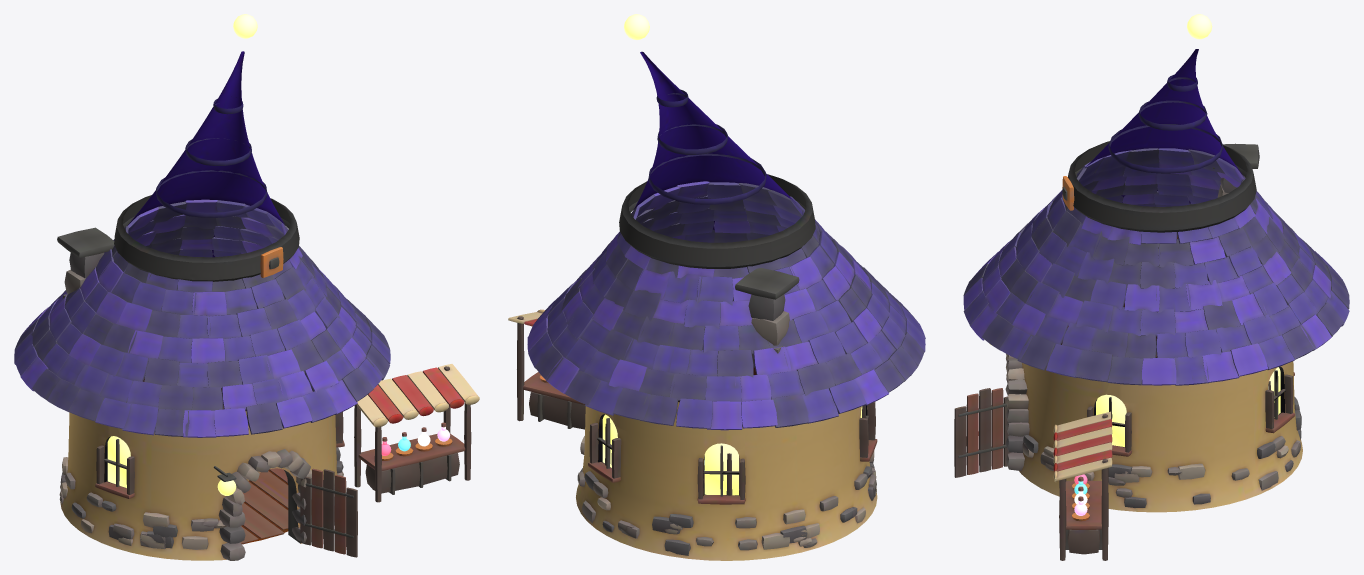
Rendered from witch_shop_v2.glb.
3 views of the same model, side by side, from view 1: azimuth 30°, elevation 25°; view 2: azimuth 150°, elevation 25°; view 3: azimuth 270°, elevation 25° (orthographic). The views are drawn at different scales.
Parts seen in each view (by area): view 1: main, glow; view 2: main, glow; view 3: main, glow.
Boxes of the visible parts, box(x1,y1,x2,y2) form: main: box(14, 51, 479, 560); glow: box(107, 14, 450, 495); main: box(508, 51, 925, 560); glow: box(602, 14, 862, 495); main: box(954, 49, 1349, 560); glow: box(989, 14, 1280, 515).
Size of the model in its own units: 15.31 by 17.04 by 13.05.
8 materials, 1 textured.
